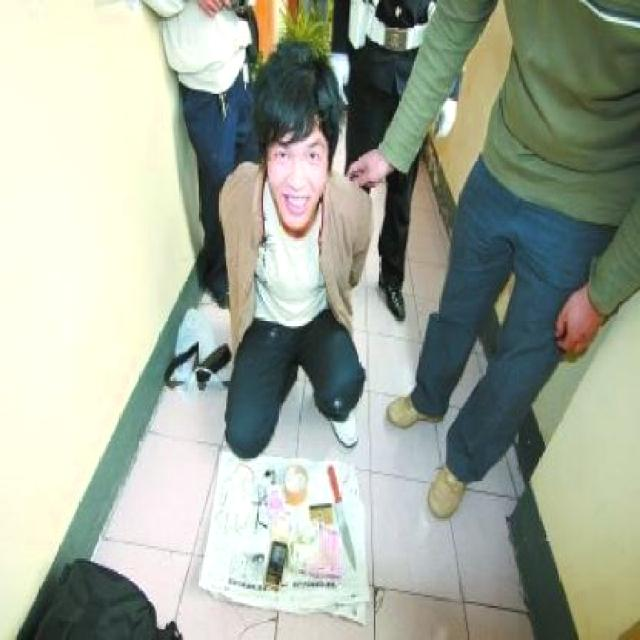face_nomask: (271, 142, 329, 226)
hand_glove: (435, 98, 460, 138), (334, 54, 352, 103)
hand_noglove: (557, 286, 601, 357), (345, 145, 392, 186), (196, 0, 227, 17)
head_nohelmet: (249, 86, 360, 143)
person: (176, 40, 390, 474)
shoes: (423, 456, 483, 527), (382, 392, 450, 431)
